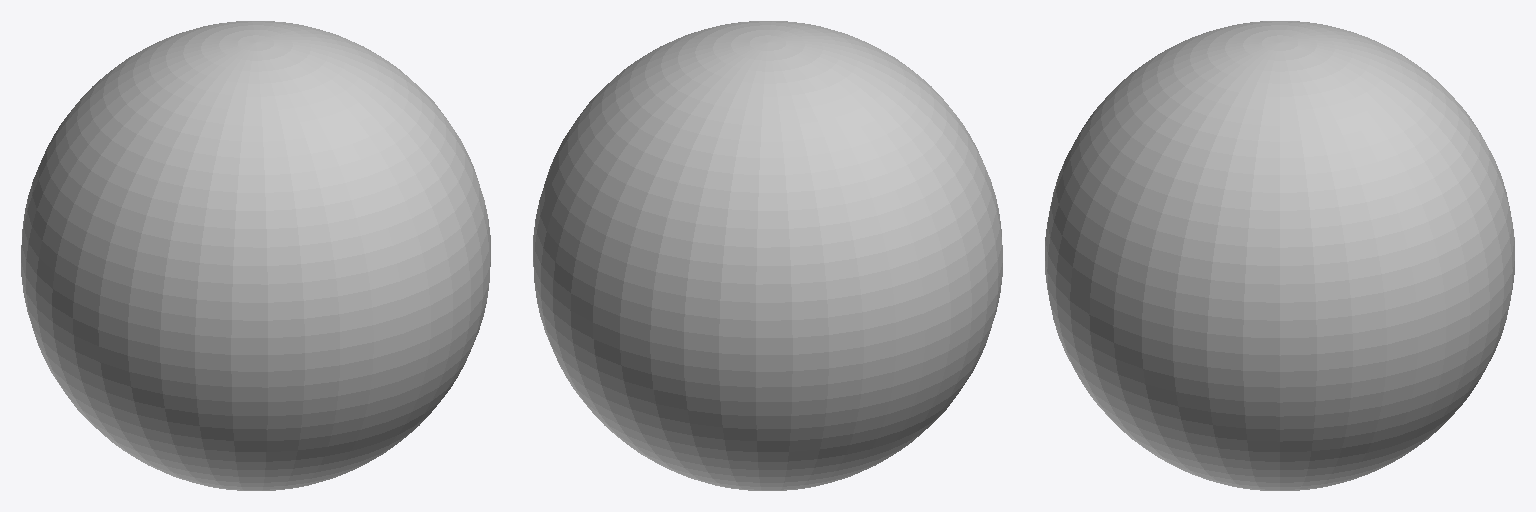
Rendered from newmoon.obj.
3 renders of one model, left to right at view 1: azimuth 30°, elevation 25°; view 2: azimuth 150°, elevation 25°; view 3: azimuth 270°, elevation 25°, orthographic.
Parts seen in each view (by area): view 1: RT_3D_Planet_Model; view 2: RT_3D_Planet_Model; view 3: RT_3D_Planet_Model.
Boxes of the visible parts, <box> form: RT_3D_Planet_Model: <box>21,21,490,490</box>; RT_3D_Planet_Model: <box>533,21,1002,490</box>; RT_3D_Planet_Model: <box>1045,21,1514,490</box>.
Bounding box in the file's own units: 1000 × 1000 × 1000.